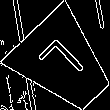L_SE: (36, 35, 94, 93)
